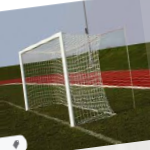goals: (16, 28, 115, 126)
